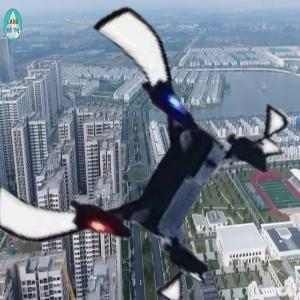drone: (6, 36, 269, 299)
